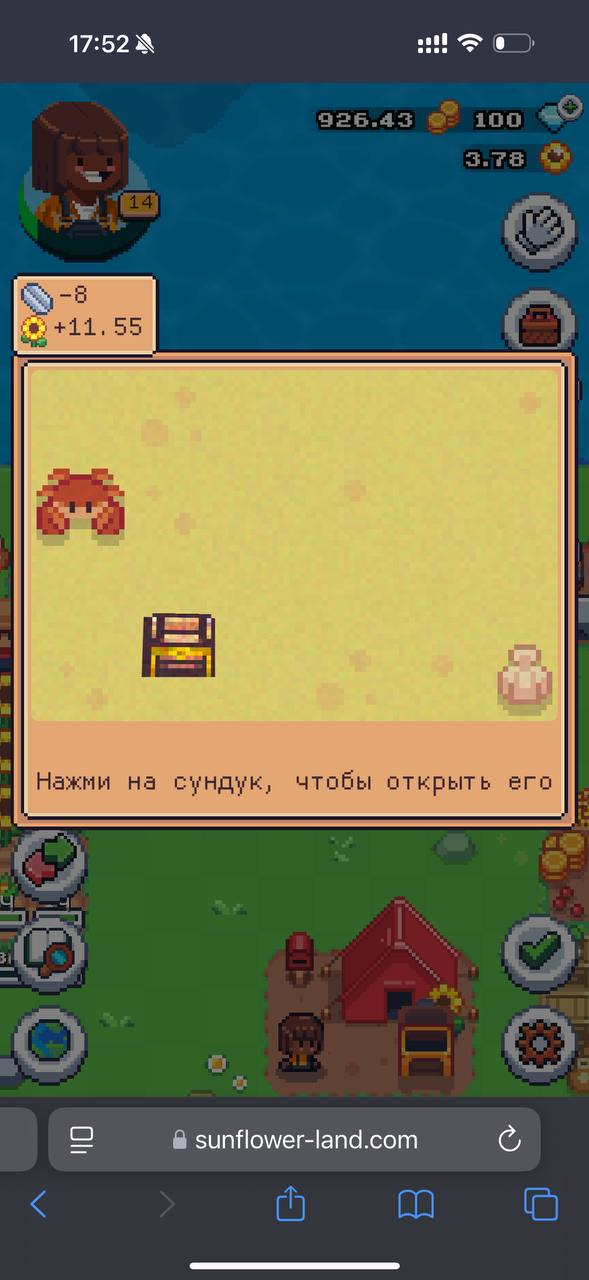capcha_chest: (140, 611, 218, 678)
